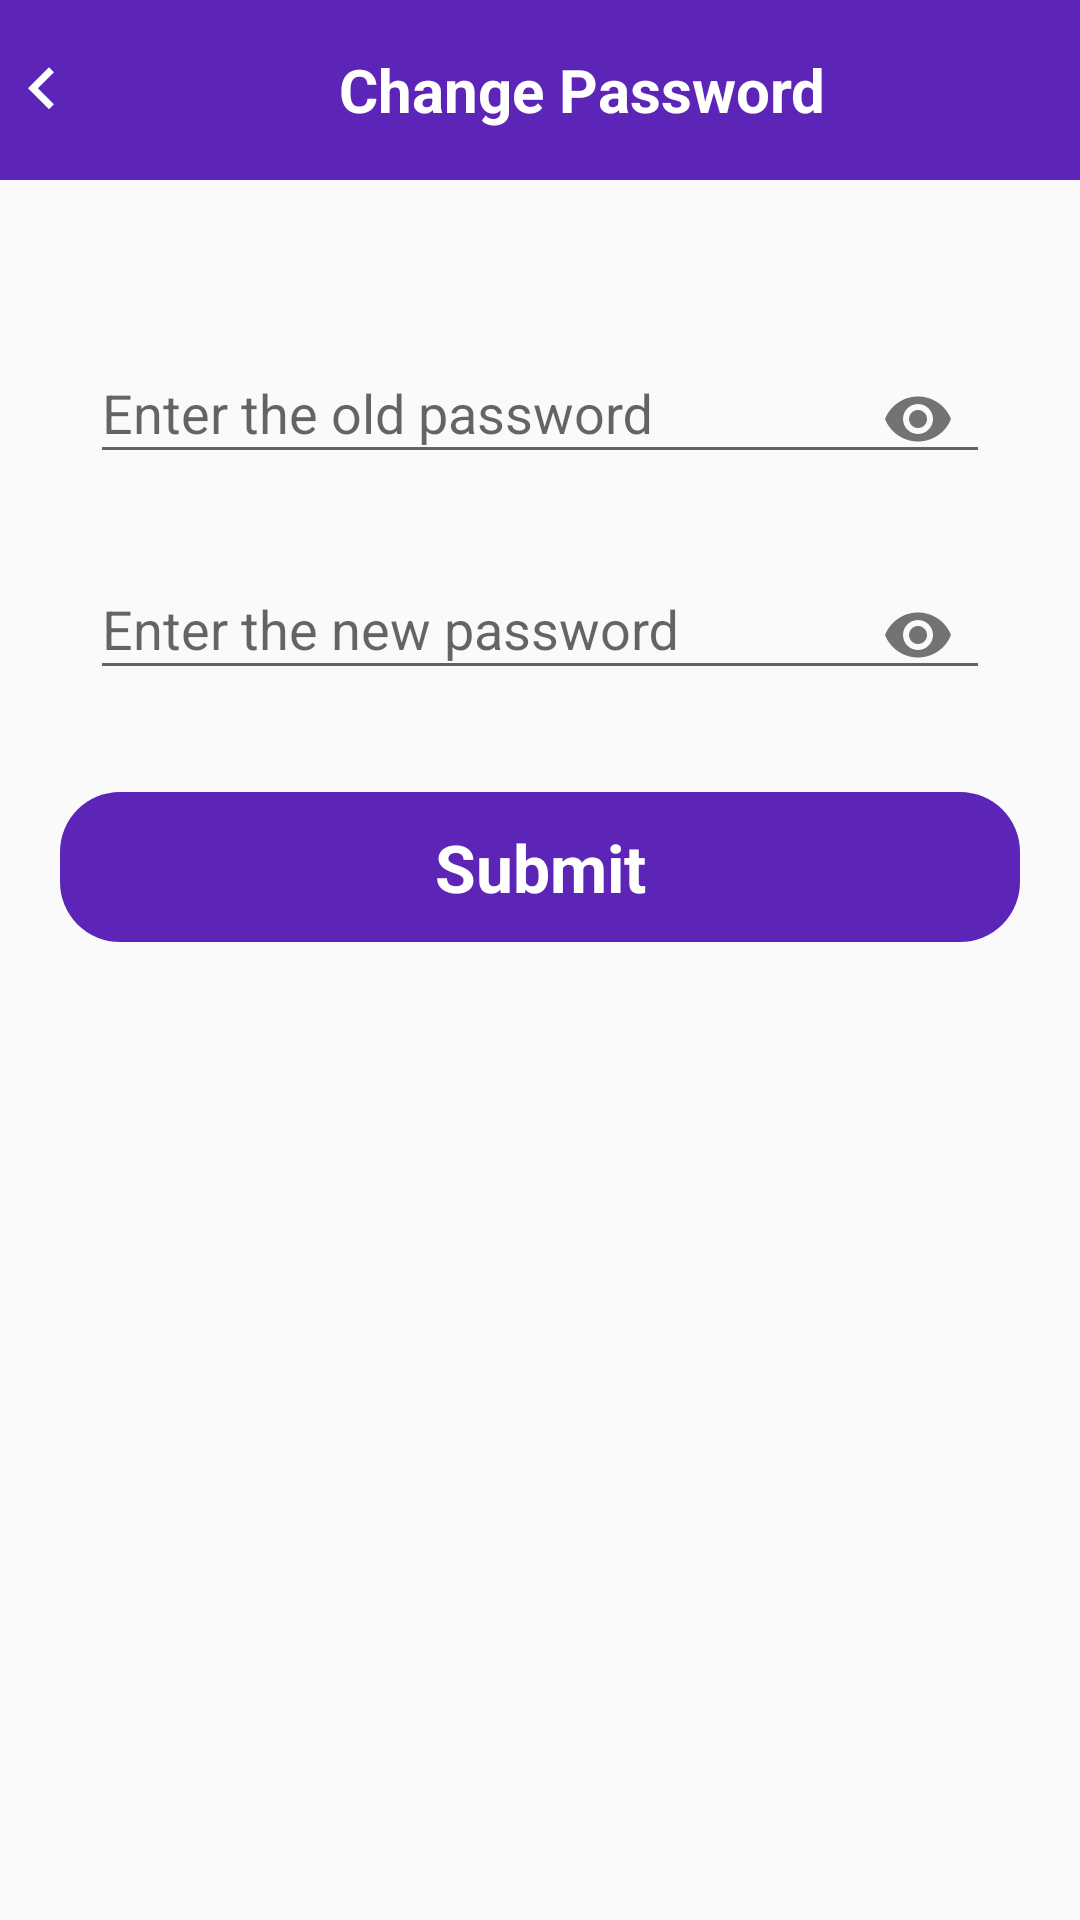

Screen size 1080px x 1920px. Icon name, then its box in pixels as Rect(x1, y1, x2, y2):
keyboard arrow left: Rect(28, 67, 54, 109)
